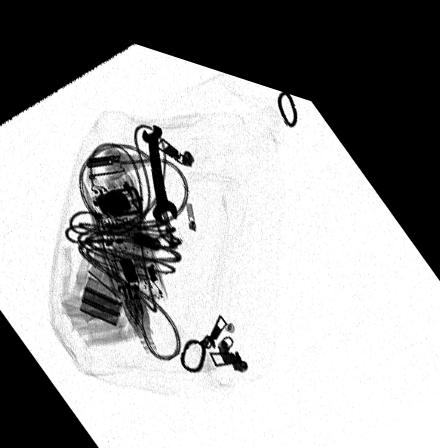Wrench: (139, 113, 178, 216)
